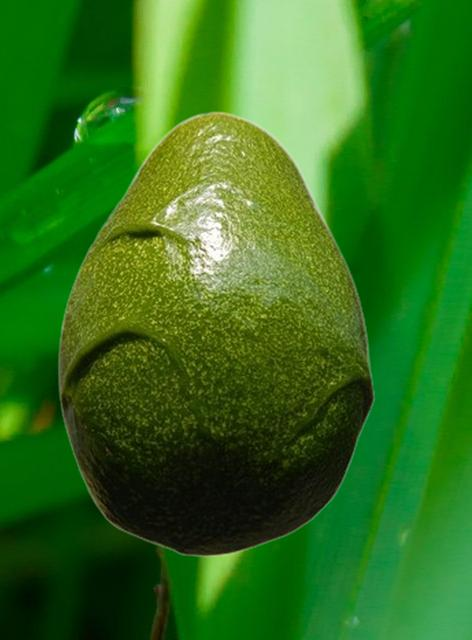avocado: (57, 110, 374, 556)
